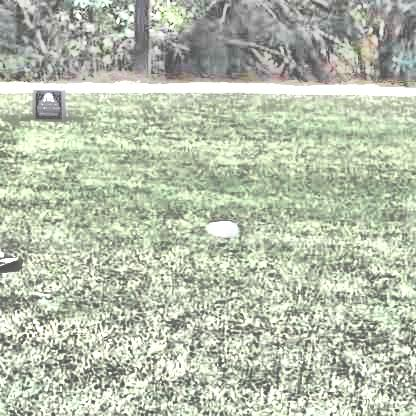golfball: (207, 216, 237, 242)
